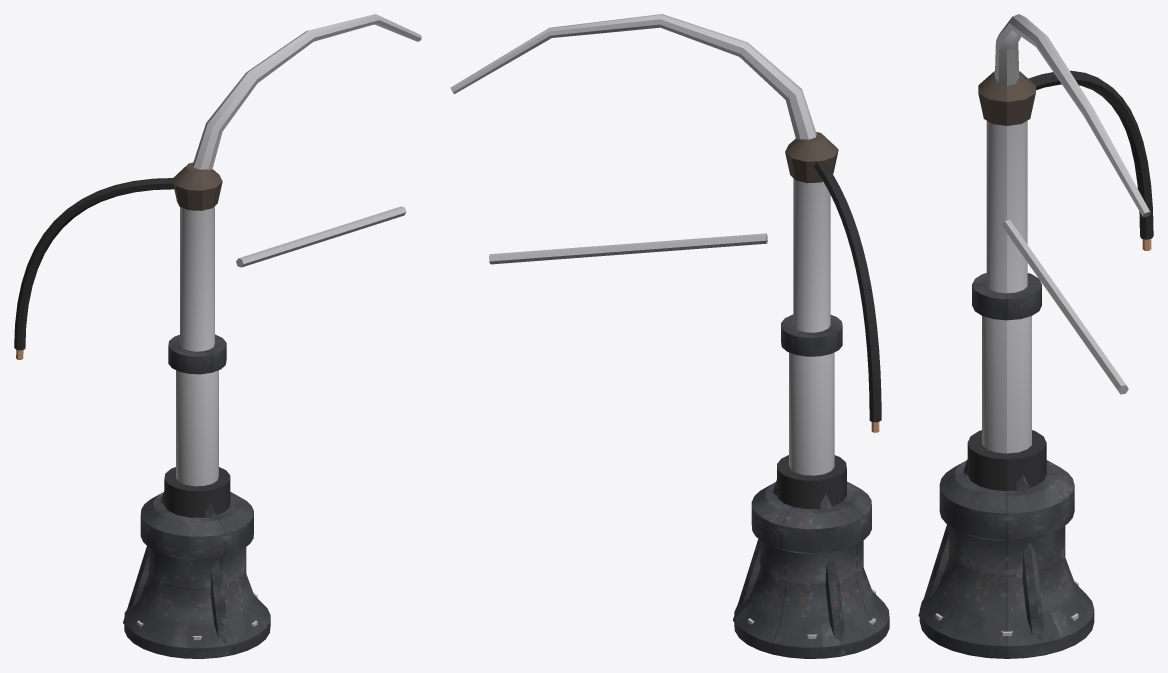
The model's file is capsule_antenna_broken.glb.
3 renders of one model, left to right at view 1: azimuth 30°, elevation 25°; view 2: azimuth 150°, elevation 25°; view 3: azimuth 270°, elevation 25°, orthographic. The views are drawn at different scales.
Visible parts, largest first — view 1: capsule_antenna_broken; view 2: capsule_antenna_broken; view 3: capsule_antenna_broken.
Boxes of the visible parts, x1,y1,x2,y2 form: capsule_antenna_broken: (14,14,421,658); capsule_antenna_broken: (450,14,889,658); capsule_antenna_broken: (918,14,1153,658).
Bounding box in the file's own units: 0.4783 × 0.6286 × 0.2021.
6 materials, 1 textured.
